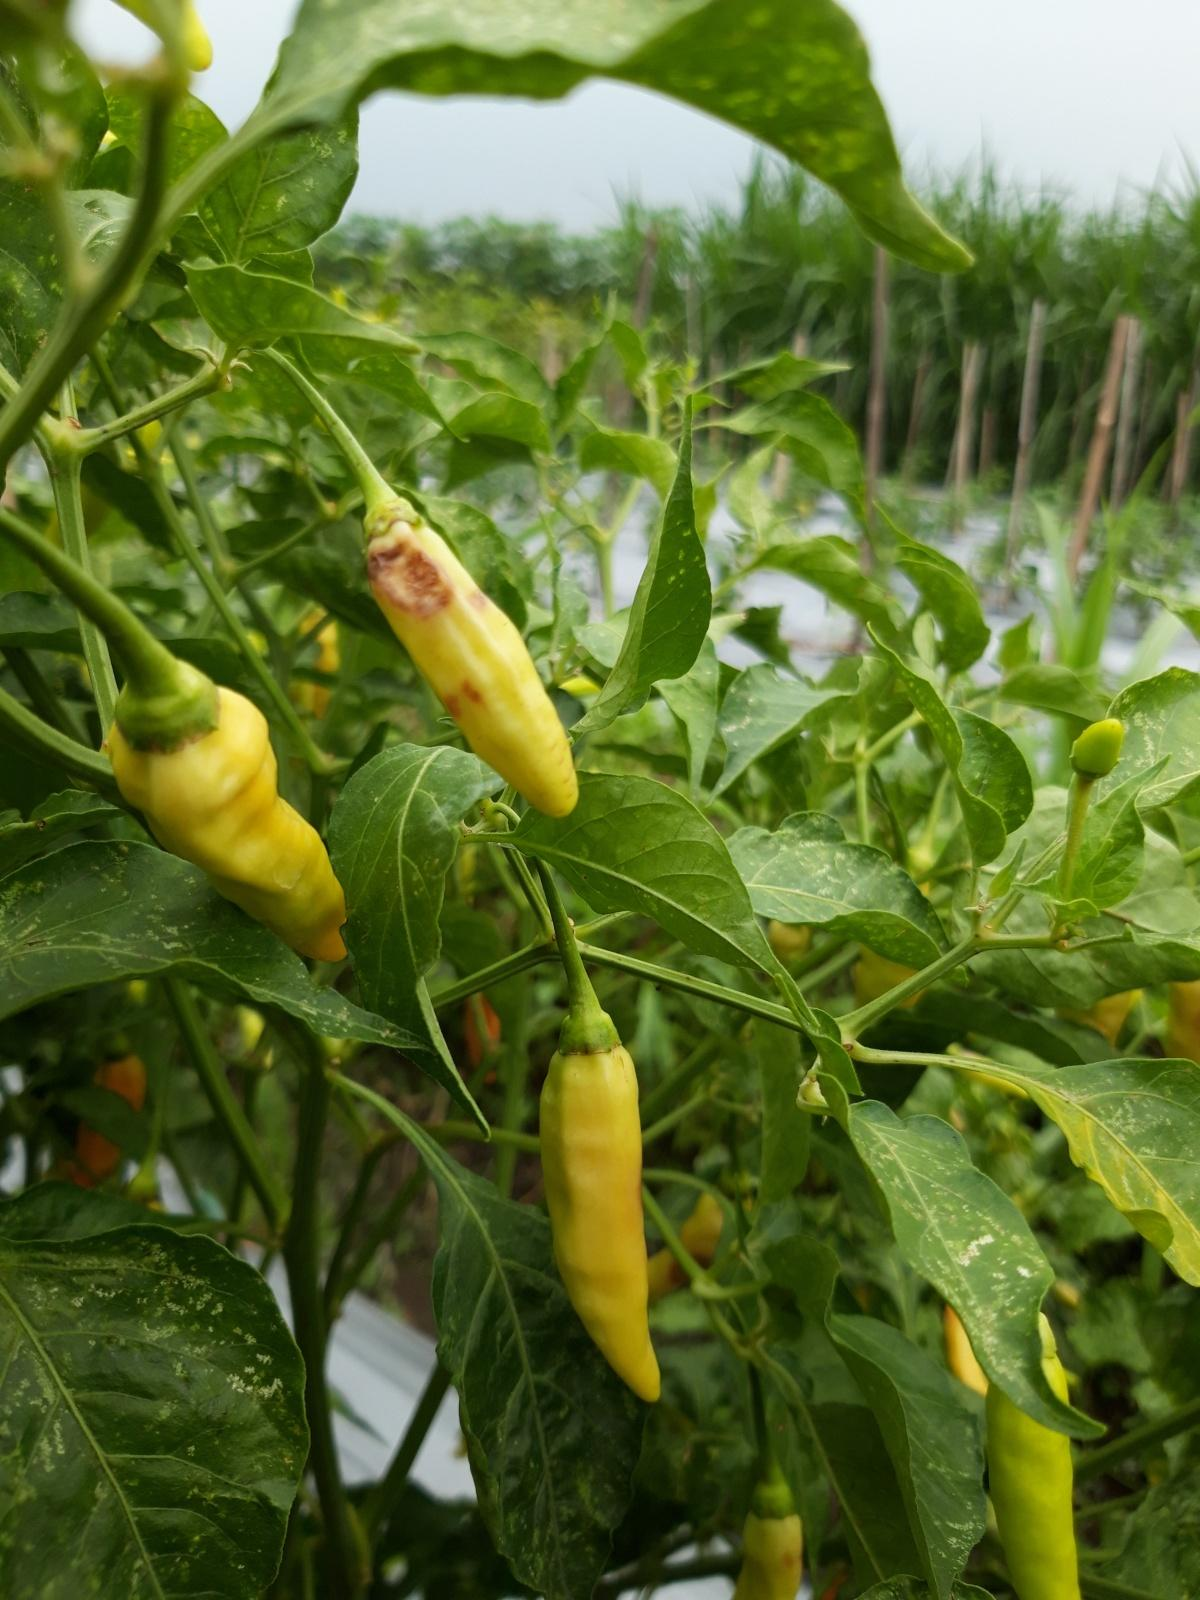cabai_normal: (108, 669, 352, 965), (537, 1015, 669, 1397), (1069, 721, 1122, 779)
lalat_buah: (352, 495, 577, 815)
